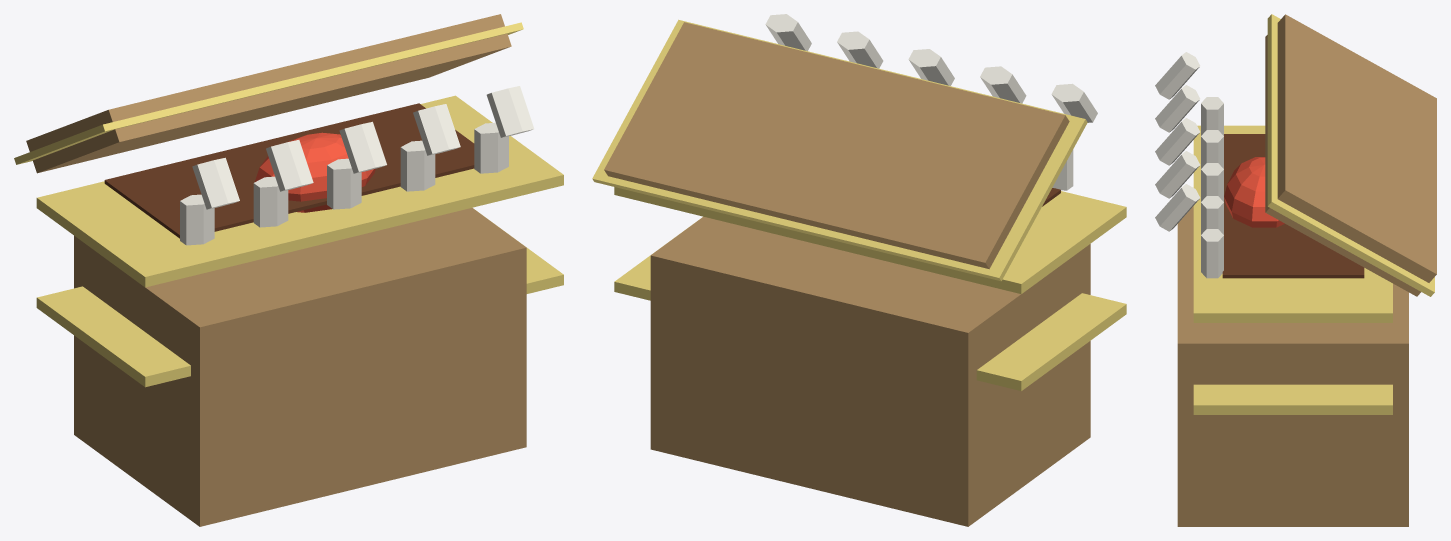
Rendered from mimic.glb.
The picture shows the model from 3 angles, left to right: view 1: azimuth 30°, elevation 25°; view 2: azimuth 150°, elevation 25°; view 3: azimuth 270°, elevation 25°; orthographic projection. The views are drawn at different scales.
Visible parts, largest first — view 1: MimicBody, Band_0.3, MimicLid, Inside, Band_0.1, LidBand, MimicEye, ToothTop_4, ToothTop_1, ToothTop_2, ToothTop_0, ToothTop_3 (+5 smaller); view 2: MimicBody, MimicLid, Band_0.3, LidBand, Band_0.1, ToothTop_0, ToothTop_3, ToothTop_4, ToothTop_1, ToothTop_2; view 3: MimicBody, MimicLid, Band_0.3, Inside, Band_0.1, LidBand, MimicEye, ToothBot_4, ToothTop_0, ToothTop_1, ToothTop_2, ToothTop_3 (+5 smaller).
Part boxes in pixels (bbox=[...]): MimicBody: bbox=[74, 208, 526, 526]; Band_0.3: bbox=[36, 95, 563, 287]; MimicLid: bbox=[26, 14, 511, 173]; Inside: bbox=[104, 103, 474, 238]; Band_0.1: bbox=[36, 208, 563, 387]; LidBand: bbox=[14, 22, 523, 164]; MimicEye: bbox=[255, 132, 375, 212]; ToothTop_4: bbox=[486, 86, 534, 137]; ToothTop_1: bbox=[266, 140, 313, 191]; ToothTop_2: bbox=[339, 121, 386, 173]; ToothTop_0: bbox=[192, 157, 239, 209]; ToothTop_3: bbox=[413, 104, 460, 155]; MimicBody: bbox=[650, 216, 1090, 526]; MimicLid: bbox=[604, 22, 1069, 269]; Band_0.3: bbox=[614, 187, 1126, 294]; LidBand: bbox=[592, 19, 1087, 281]; Band_0.1: bbox=[614, 218, 1126, 391]; ToothTop_0: bbox=[1051, 83, 1097, 122]; ToothTop_3: bbox=[837, 31, 883, 68]; ToothTop_4: bbox=[765, 14, 811, 51]; ToothTop_1: bbox=[980, 66, 1026, 103]; ToothTop_2: bbox=[908, 49, 954, 85]; MimicBody: bbox=[1177, 206, 1408, 526]; MimicLid: bbox=[1265, 14, 1436, 296]; Band_0.3: bbox=[1193, 125, 1392, 322]; Inside: bbox=[1222, 134, 1364, 278]; Band_0.1: bbox=[1193, 384, 1392, 414]; LidBand: bbox=[1267, 14, 1434, 296]; MimicEye: bbox=[1224, 157, 1284, 227]; ToothBot_4: bbox=[1201, 229, 1223, 278]; ToothTop_0: bbox=[1155, 52, 1200, 99]; ToothTop_1: bbox=[1155, 85, 1200, 132]; ToothTop_2: bbox=[1155, 118, 1200, 165]; ToothTop_3: bbox=[1155, 151, 1200, 198].
Size of the model in its own units: 0.6149 by 0.5364 by 0.3901.
